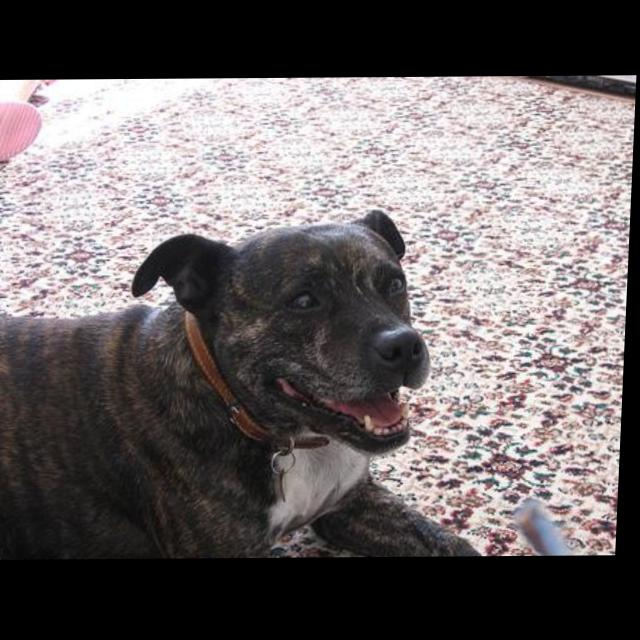staffford: (1, 207, 620, 561)
